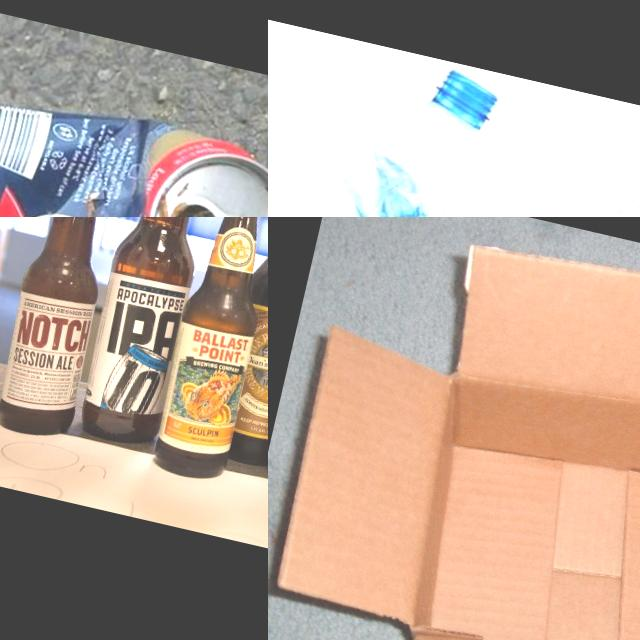garrafa de vidro: (71, 217, 224, 450), (145, 217, 268, 484), (0, 217, 127, 443), (211, 217, 268, 471)
garrafa plástica: (268, 22, 556, 217)
lata: (0, 49, 268, 217)
papelão: (268, 217, 640, 640)
